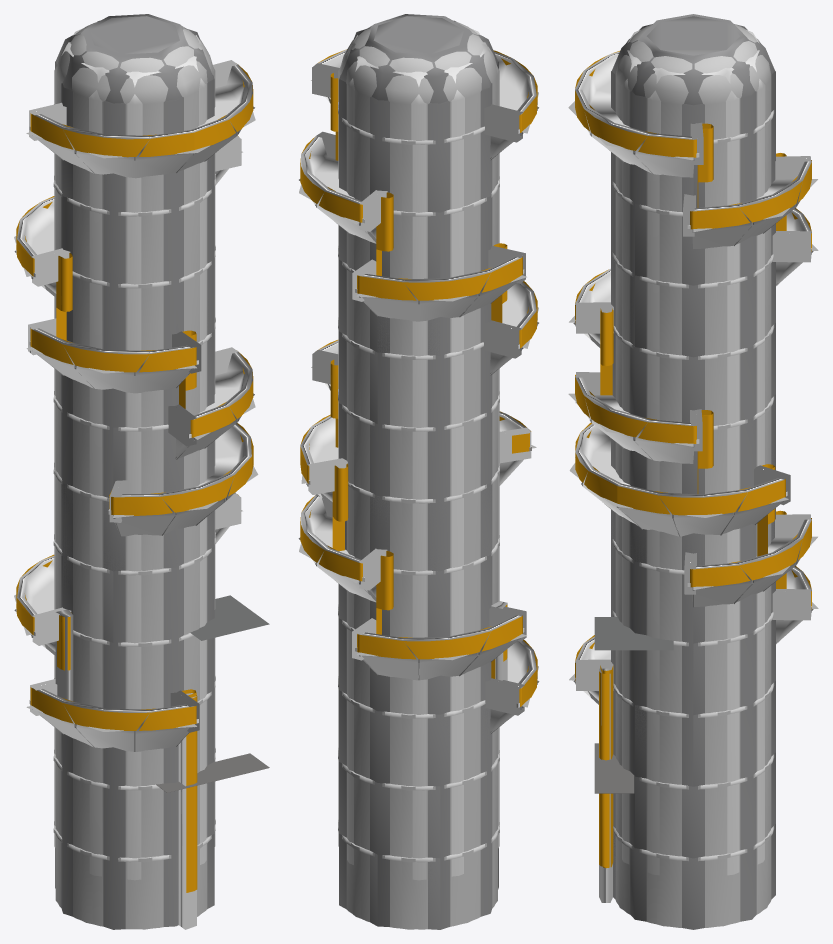
File: punisherFluidSilo.dae
The picture shows the model from 3 angles, left to right: view 1: azimuth 30°, elevation 25°; view 2: azimuth 150°, elevation 25°; view 3: azimuth 270°, elevation 25°; orthographic projection.
Parts seen in each view (by area): view 1: Colmesh_s_oil_ref_mockup_unit2_distill-1, s_oil_ref_mockup_unit2_distill_L4500, s_oil_ref_mockup_unit2_distill_L120, s_oil_ref_mockup_unit2_distill_L1800, s_oil_ref_mockup_unit2_distill_L300, s_oil_ref_mockup_unit2_distill_L500; view 2: Colmesh_s_oil_ref_mockup_unit2_distill-1, s_oil_ref_mockup_unit2_distill_L4500, s_oil_ref_mockup_unit2_distill_L300, s_oil_ref_mockup_unit2_distill_L120, s_oil_ref_mockup_unit2_distill_L1800, s_oil_ref_mockup_unit2_distill_L500; view 3: s_oil_ref_mockup_unit2_distill_L4500, Colmesh_s_oil_ref_mockup_unit2_distill-1, s_oil_ref_mockup_unit2_distill_L300, s_oil_ref_mockup_unit2_distill_L1800, s_oil_ref_mockup_unit2_distill_L120, s_oil_ref_mockup_unit2_distill_L500.
Part boxes in pixels (bbox=[...]): Colmesh_s_oil_ref_mockup_unit2_distill-1: bbox=[16, 28, 252, 929]; s_oil_ref_mockup_unit2_distill_L4500: bbox=[16, 22, 253, 929]; s_oil_ref_mockup_unit2_distill_L120: bbox=[55, 14, 269, 929]; s_oil_ref_mockup_unit2_distill_L1800: bbox=[18, 115, 250, 929]; s_oil_ref_mockup_unit2_distill_L300: bbox=[14, 16, 258, 925]; s_oil_ref_mockup_unit2_distill_L500: bbox=[14, 80, 254, 928]; Colmesh_s_oil_ref_mockup_unit2_distill-1: bbox=[300, 28, 537, 880]; s_oil_ref_mockup_unit2_distill_L4500: bbox=[300, 21, 537, 929]; s_oil_ref_mockup_unit2_distill_L300: bbox=[299, 16, 538, 929]; s_oil_ref_mockup_unit2_distill_L120: bbox=[339, 14, 498, 929]; s_oil_ref_mockup_unit2_distill_L1800: bbox=[300, 73, 536, 929]; s_oil_ref_mockup_unit2_distill_L500: bbox=[298, 58, 539, 929]; s_oil_ref_mockup_unit2_distill_L4500: bbox=[575, 24, 811, 927]; Colmesh_s_oil_ref_mockup_unit2_distill-1: bbox=[575, 29, 811, 902]; s_oil_ref_mockup_unit2_distill_L300: bbox=[568, 16, 818, 929]; s_oil_ref_mockup_unit2_distill_L1800: bbox=[575, 90, 811, 926]; s_oil_ref_mockup_unit2_distill_L120: bbox=[594, 14, 775, 898]; s_oil_ref_mockup_unit2_distill_L500: bbox=[573, 69, 813, 925].
Size of the model in its own units: 12.68 by 12.68 by 48.05.
